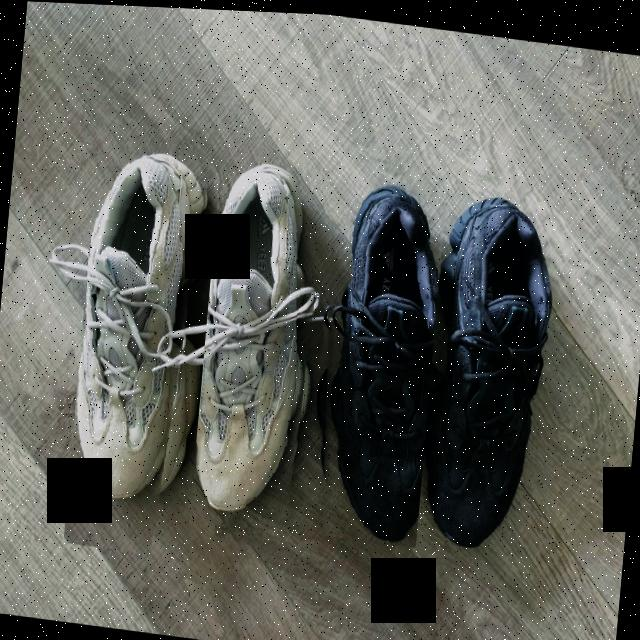shoe: (63, 132, 212, 556), (413, 176, 567, 563), (187, 153, 331, 552), (300, 169, 446, 545)
